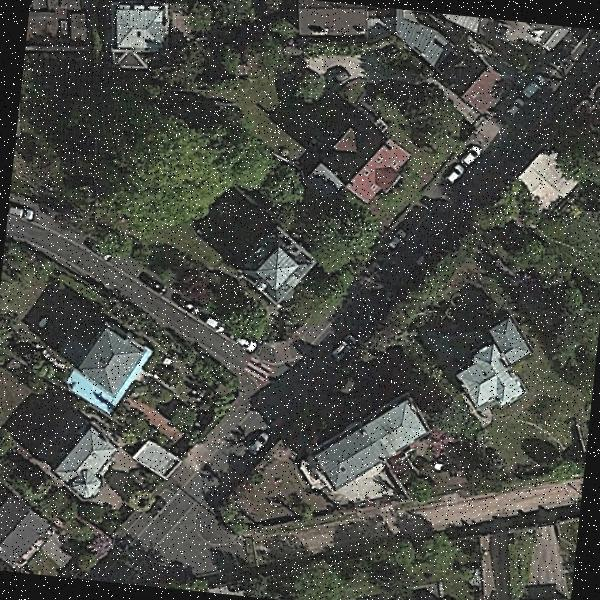Buildings: (317, 398, 425, 493), (456, 320, 532, 415), (66, 332, 150, 408), (327, 126, 395, 192), (52, 428, 114, 495), (0, 494, 45, 572), (284, 0, 370, 39), (246, 242, 308, 296), (110, 8, 169, 55), (458, 64, 502, 109)
